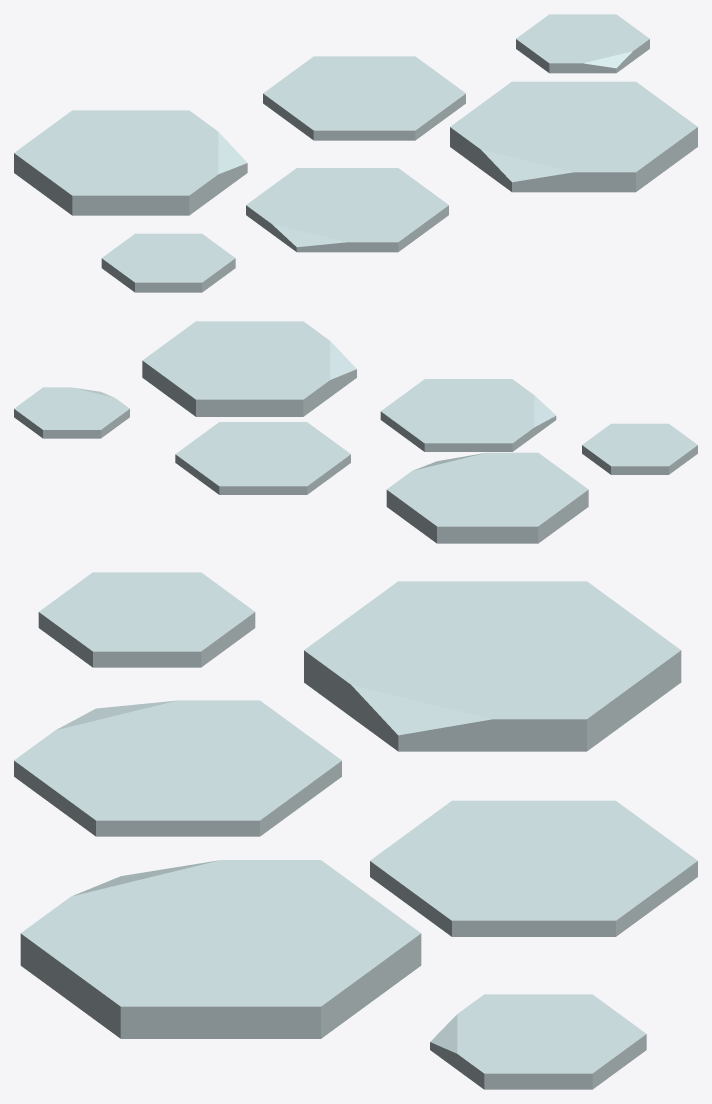
Rendered from path-stone.gltf.
3 renders of one model, top to bottom at view 1: azimuth 30°, elevation 25°; view 2: azimuth 150°, elevation 25°; view 3: azimuth 270°, elevation 25°, orthographic. The views are drawn at different scales.
Visible parts, largest first — view 1: path_stone; view 2: path_stone; view 3: path_stone.
Boxes of the visible parts, left/top/right/bottom form: path_stone: left=14, top=14, right=697, bottom=292; path_stone: left=14, top=321, right=697, bottom=543; path_stone: left=14, top=572, right=697, bottom=1089.
Size of the model in its own units: 2 by 0.06 by 1.15.
